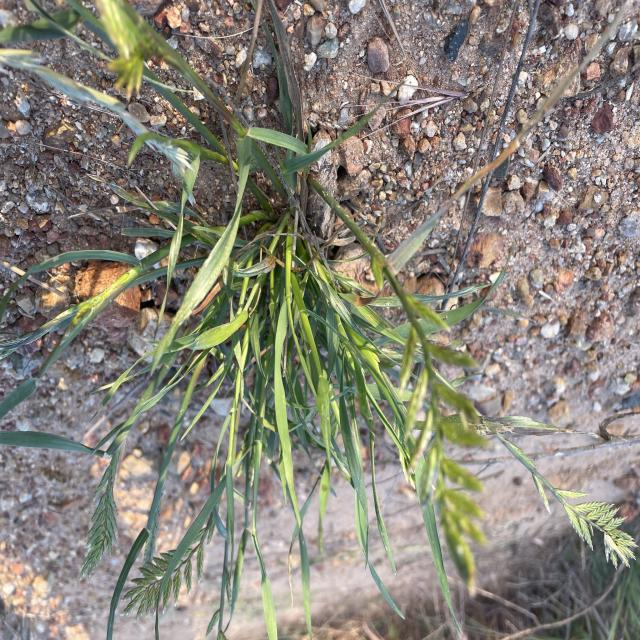Lolium: (376, 252, 494, 592), (122, 522, 225, 620), (556, 488, 638, 574)
